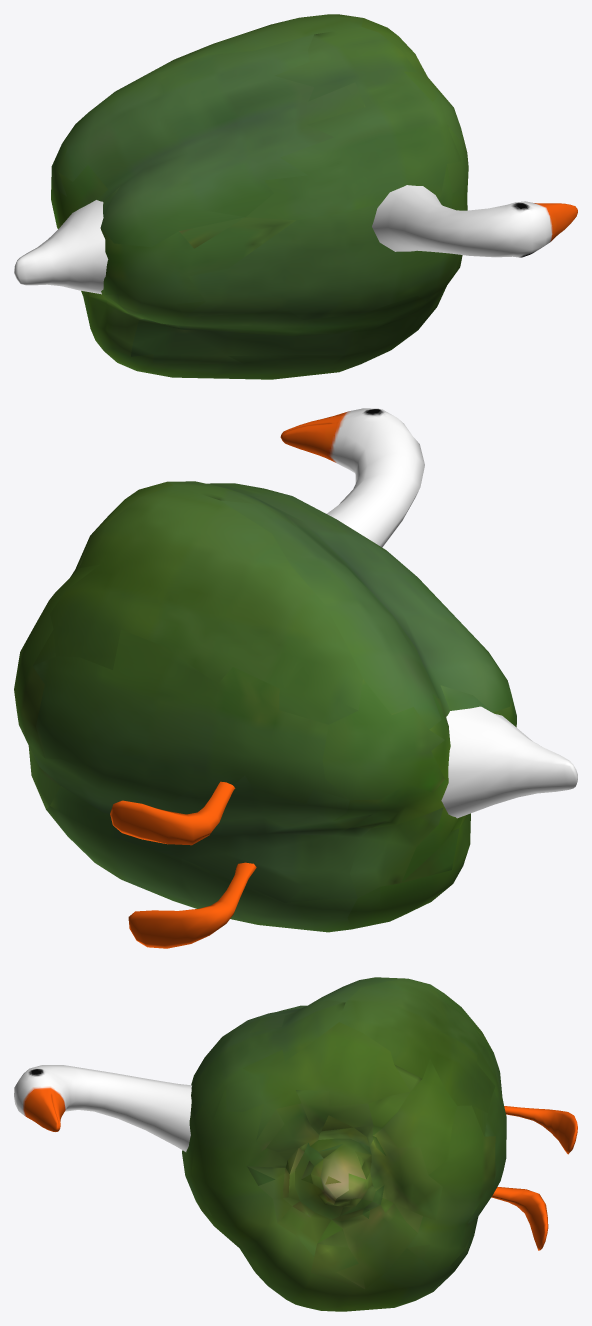
File: Goose_GreenPepper.obj
3 renders of one model, top to bottom at view 1: azimuth 30°, elevation 25°; view 2: azimuth 150°, elevation 25°; view 3: azimuth 270°, elevation 25°, orthographic. The views are drawn at different scales.
Visible parts, largest first — view 1: Retopo_Vihrea_Paprika_mesh.002, e; view 2: Retopo_Vihrea_Paprika_mesh.002, e; view 3: Retopo_Vihrea_Paprika_mesh.002, e.
Boxes of the visible parts, left/top/right/bottom form: Retopo_Vihrea_Paprika_mesh.002: left=51, top=14, right=468, bottom=379; e: left=14, top=185, right=577, bottom=294; Retopo_Vihrea_Paprika_mesh.002: left=14, top=481, right=516, bottom=932; e: left=110, top=408, right=577, bottom=948; Retopo_Vihrea_Paprika_mesh.002: left=182, top=977, right=506, bottom=1311; e: left=14, top=1065, right=577, bottom=1250.
Bounding box in the file's own units: 1.47 × 1.08 × 1.85.
